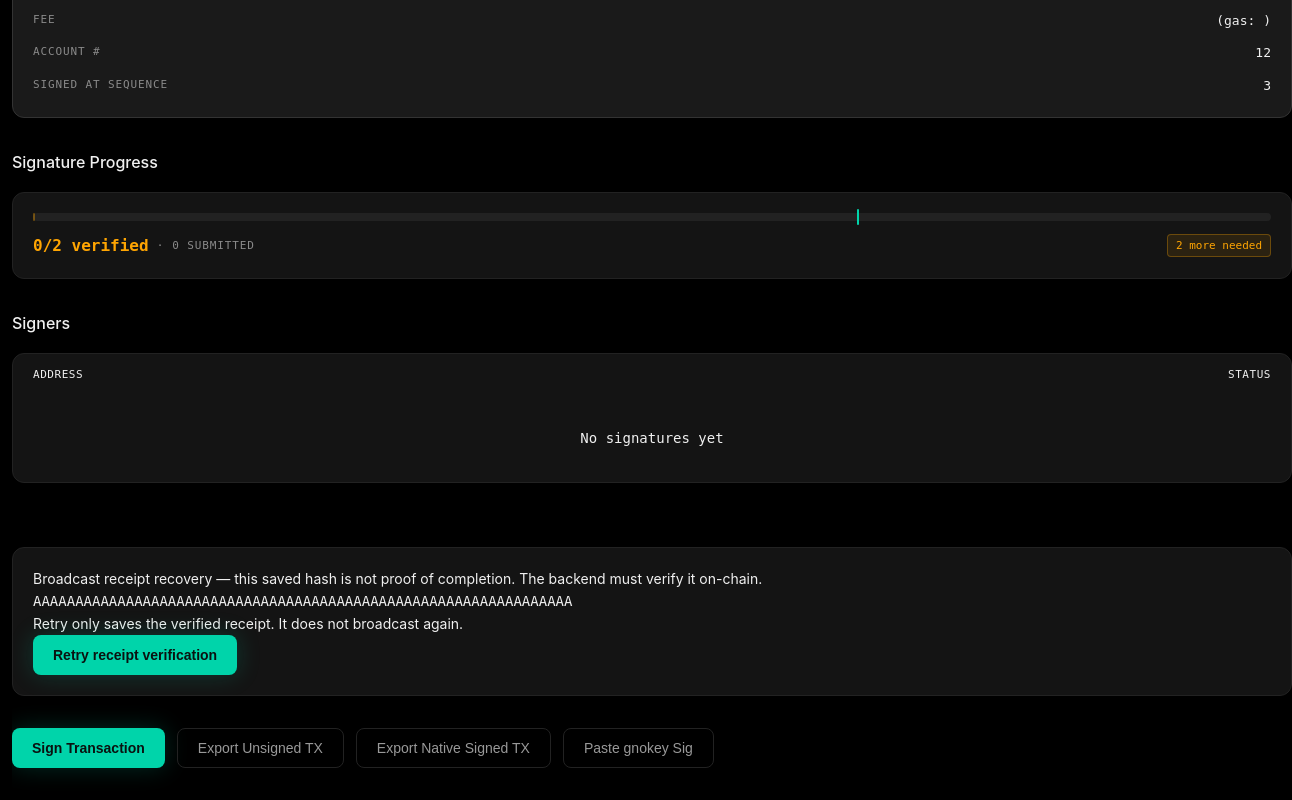
Test: native confirmation and receipt recovery › reconciles a lost completion response from server state without repeating Complete
(page scrolled)
Step 1. Click the button "Retry receipt verification" → coordinates (135, 655), box [33,635,237,675]
(page scrolled)
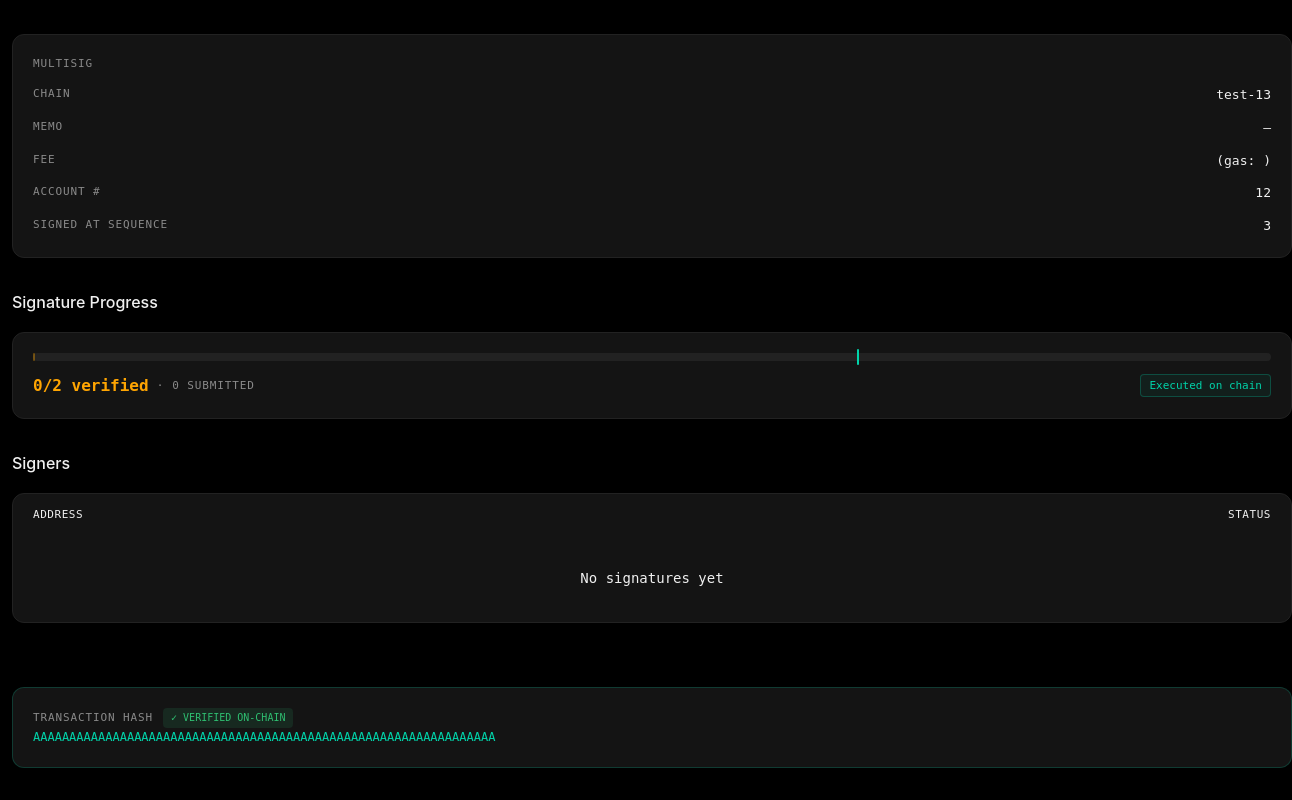
Check: the text "✓ VERIFIED ON-CHAIN" is shown, box [163,708,293,728]
